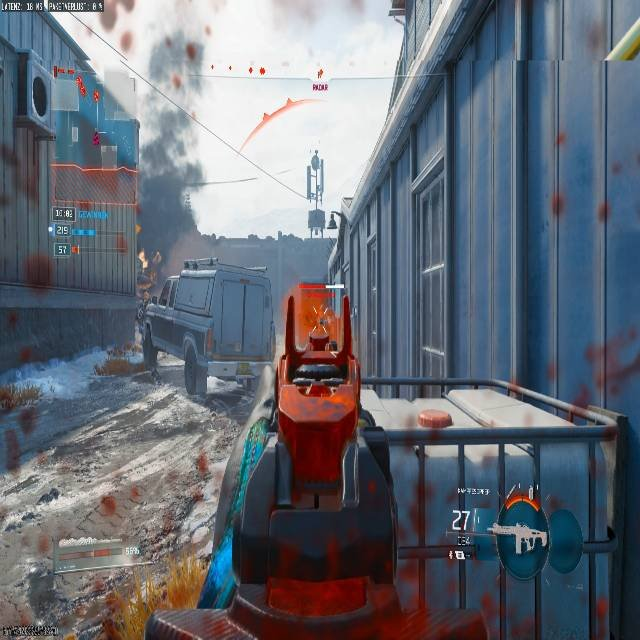player: (317, 303, 331, 335)
